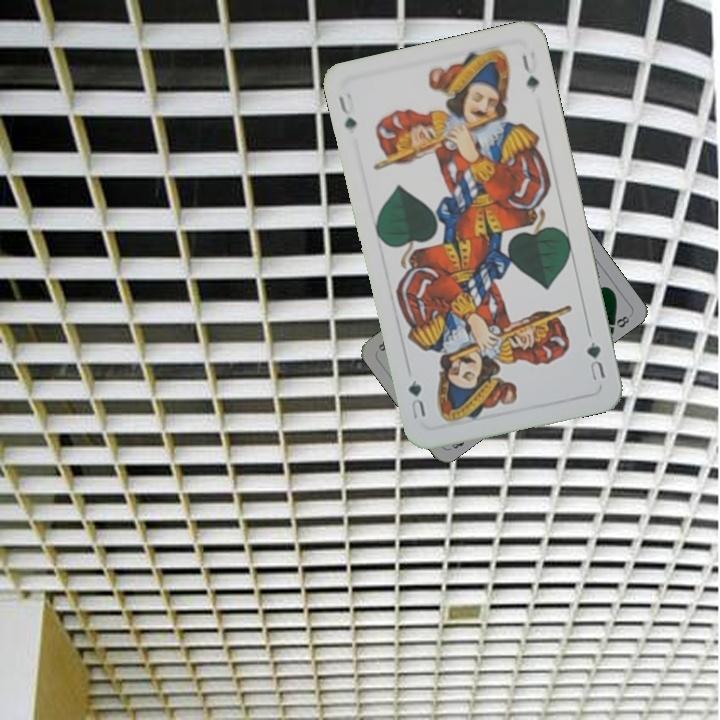GU: (582, 337, 608, 385), (334, 88, 359, 133)
